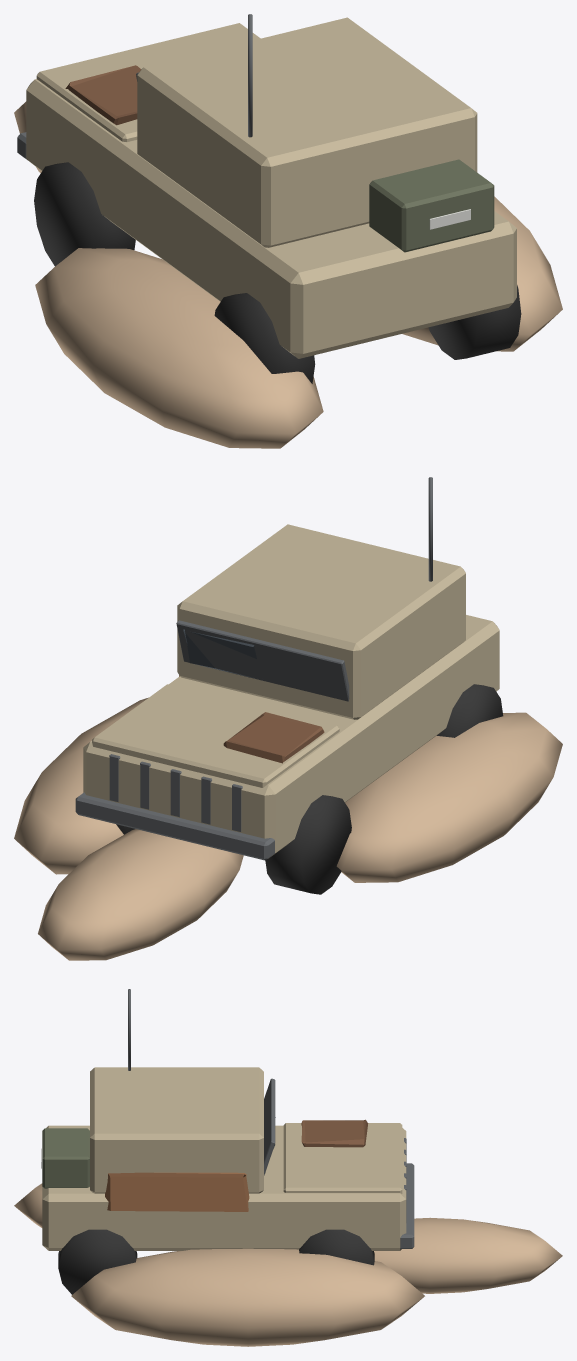
File: v_humvee_wreck.glb
3 renders of one model, top to bottom at view 1: azimuth 30°, elevation 25°; view 2: azimuth 150°, elevation 25°; view 3: azimuth 270°, elevation 25°, orthographic. The views are drawn at different scales.
Parts seen in each view (by area): view 1: Humvee_wreck; view 2: Humvee_wreck; view 3: Humvee_wreck.
Boxes of the visible parts, bbox=[...] form: Humvee_wreck: bbox=[14, 14, 562, 448]; Humvee_wreck: bbox=[14, 477, 562, 960]; Humvee_wreck: bbox=[14, 989, 562, 1346].
Size of what is drawn, in the model's own units: 4.5 by 3.76 by 6.94.
